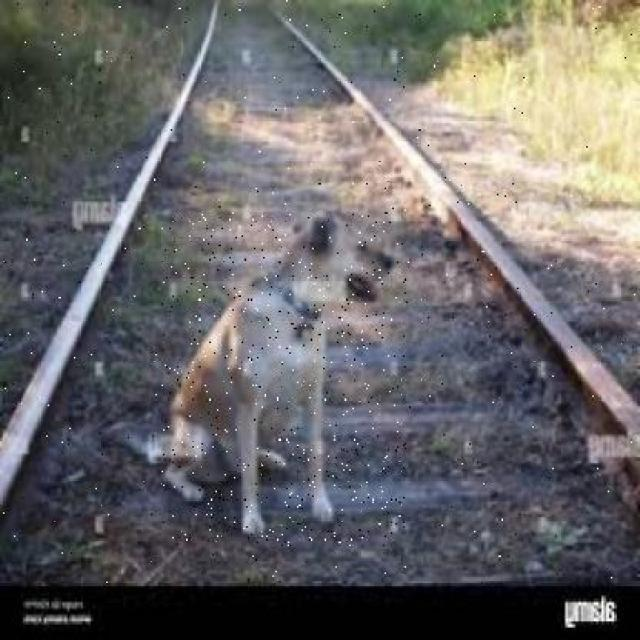danger: (160, 212, 406, 548)
rail: (3, 0, 637, 583)
